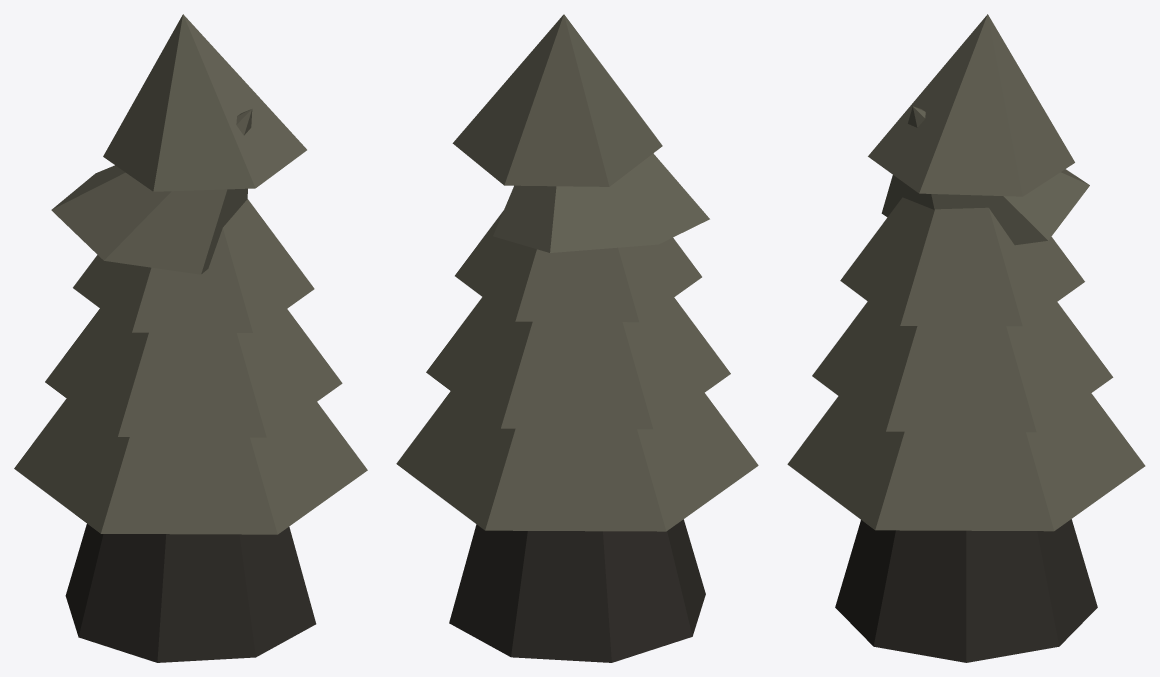
File: SM_Env_Tree_02.fbx
The picture shows the model from 3 angles, left to right: view 1: azimuth 30°, elevation 25°; view 2: azimuth 150°, elevation 25°; view 3: azimuth 270°, elevation 25°; orthographic projection. The views are drawn at different scales.
Parts seen in each view (by area): view 1: Cone, Cylinder.003, Cone.001, Cone.004, Cone.002, Cone.003; view 2: Cone, Cylinder.003, Cone.001, Cone.004, Cone.002, Cone.003; view 3: Cone, Cylinder.003, Cone.001, Cone.002, Cone.004, Cone.003.
Boxes of the visible parts, x1,y1,x2,y2 form: Cone: [14, 398, 367, 534]; Cylinder.003: [65, 524, 316, 662]; Cone.001: [45, 308, 342, 437]; Cone.004: [103, 14, 306, 191]; Cone.002: [73, 199, 314, 332]; Cone.003: [51, 109, 252, 274]; Cone: [396, 391, 758, 531]; Cylinder.003: [449, 519, 705, 662]; Cone.001: [426, 297, 730, 429]; Cone.004: [452, 14, 662, 186]; Cone.002: [455, 210, 701, 322]; Cone.003: [493, 153, 709, 252]; Cone: [787, 393, 1145, 531]; Cylinder.003: [835, 519, 1097, 662]; Cone.001: [812, 301, 1113, 432]; Cone.002: [840, 197, 1084, 326]; Cone.004: [868, 14, 1074, 196]; Cone.003: [881, 106, 1089, 245].
Bounding box in the file's own units: 273 × 500 × 238.
